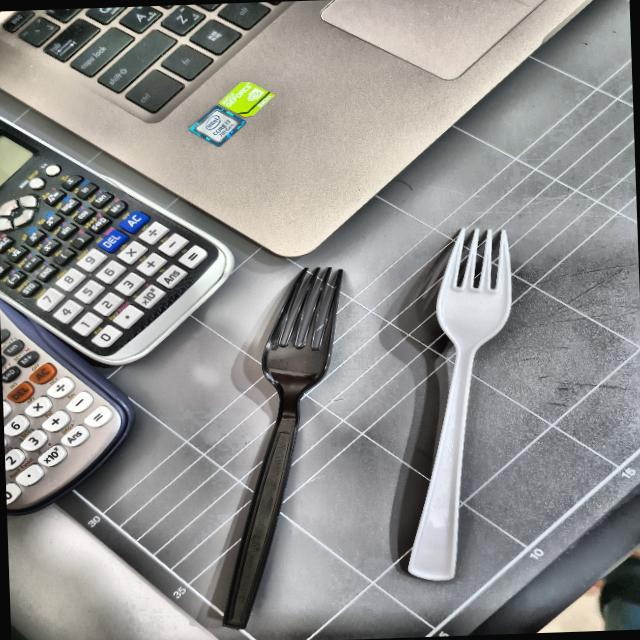plastic utensil: (176, 266, 364, 628), (396, 222, 528, 583)
